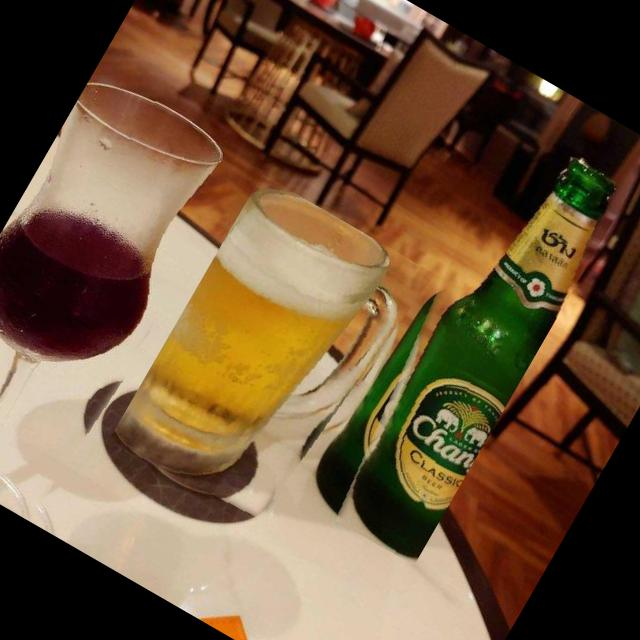Glass: (296, 120, 632, 566), (0, 66, 267, 535), (108, 175, 436, 543)
